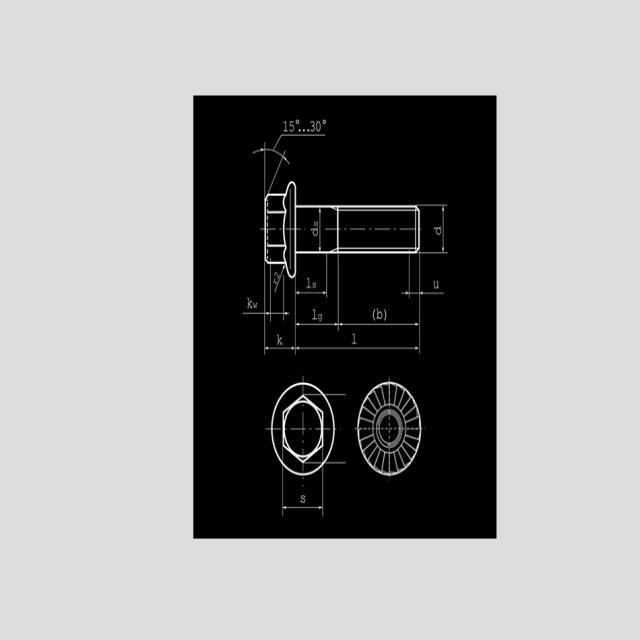marking_line: (293, 278, 422, 356), (337, 254, 421, 332), (263, 279, 297, 355), (294, 278, 340, 331), (244, 270, 287, 320), (401, 253, 444, 298), (281, 475, 324, 517), (253, 147, 290, 192), (421, 204, 448, 256), (335, 392, 347, 468), (295, 277, 328, 298), (274, 264, 286, 294), (319, 208, 322, 251)
numeric: (434, 226, 442, 237), (311, 308, 317, 322), (310, 120, 316, 133), (315, 120, 321, 133), (246, 297, 252, 310), (433, 280, 440, 290), (282, 122, 288, 133), (277, 334, 283, 345), (311, 228, 318, 237), (377, 308, 382, 320), (306, 277, 311, 289), (383, 308, 387, 322), (289, 121, 294, 132), (352, 333, 356, 344), (317, 314, 323, 321), (373, 308, 376, 322), (275, 272, 281, 279), (252, 301, 257, 309), (314, 219, 319, 227), (273, 279, 278, 285), (313, 281, 316, 290)
special_symbol: (322, 119, 327, 125), (295, 119, 300, 124), (307, 127, 310, 133), (299, 129, 302, 133), (303, 128, 305, 132)
